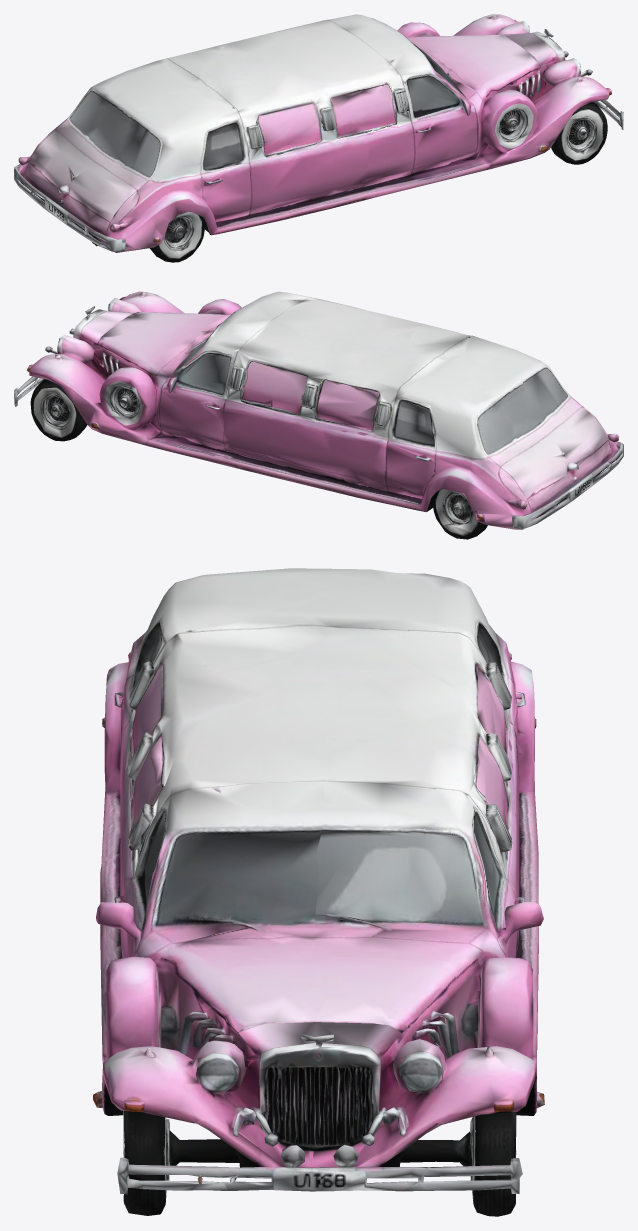
Rendered from stretch-limo.glb.
3 views of the same model, one above another, from view 1: azimuth 30°, elevation 25°; view 2: azimuth 150°, elevation 25°; view 3: azimuth 270°, elevation 25° (orthographic). The views are drawn at different scales.
Visible parts, largest first — view 1: tripo_node_1c77f594-25d8-41a5-976b-95367fb399d7, Roue_2_maillage, Roue_0_maillage; view 2: tripo_node_1c77f594-25d8-41a5-976b-95367fb399d7, Roue_3_maillage, Roue_1_maillage; view 3: tripo_node_1c77f594-25d8-41a5-976b-95367fb399d7.
Part boxes in pixels (x1,y1,x2,y2): tripo_node_1c77f594-25d8-41a5-976b-95367fb399d7: [14, 14, 623, 258]; Roue_2_maillage: [551, 109, 607, 164]; Roue_0_maillage: [154, 216, 201, 262]; tripo_node_1c77f594-25d8-41a5-976b-95367fb399d7: [14, 291, 623, 536]; Roue_3_maillage: [31, 387, 86, 441]; Roue_1_maillage: [436, 493, 484, 539]; tripo_node_1c77f594-25d8-41a5-976b-95367fb399d7: [93, 568, 544, 1216].
Bounding box in the file's own units: 3.4 × 0.8089 × 1.27.
Materials: 1 (1 with a texture image).
